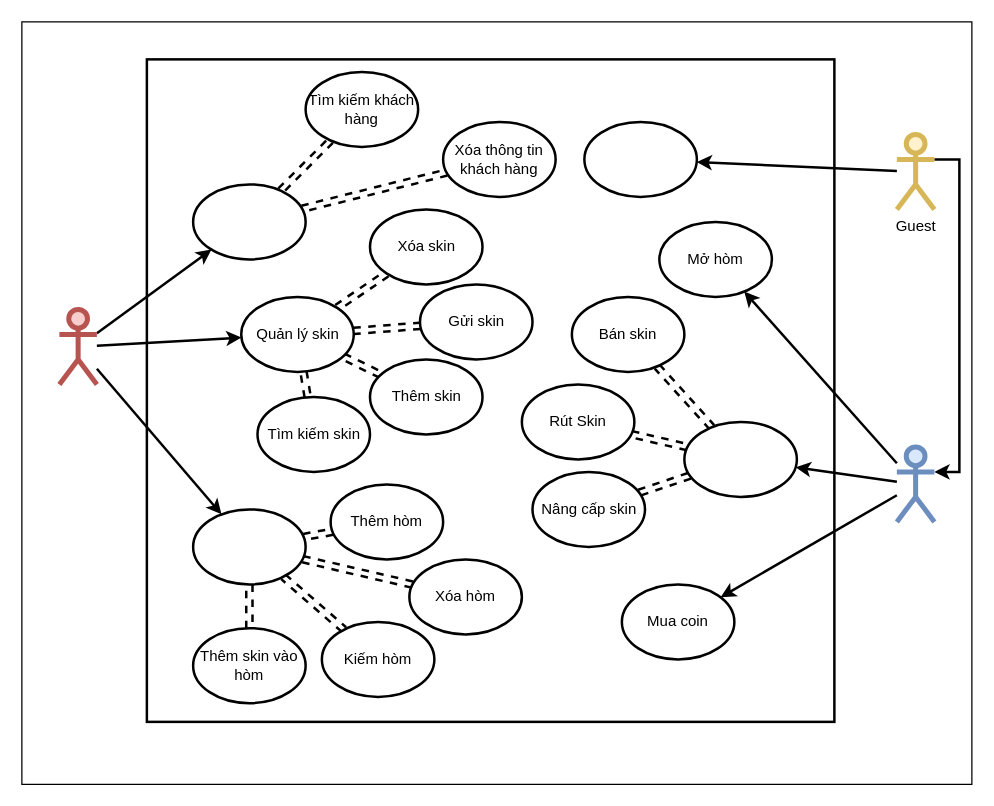
Some shapes in this 994 by 806 pixel diagram are drawn without their labels. Here are the shapes that lost their labels. From the top down, the box of each, then its label:
(582, 120, 698, 198): Đăng nhập
(191, 182, 306, 260): Quản lý khách hàng
(56, 306, 99, 386): Admin
(682, 420, 798, 498): Quản lỳ skin cá nhân
(894, 444, 936, 524): Customer
(191, 508, 306, 585): Quản lý hòm
